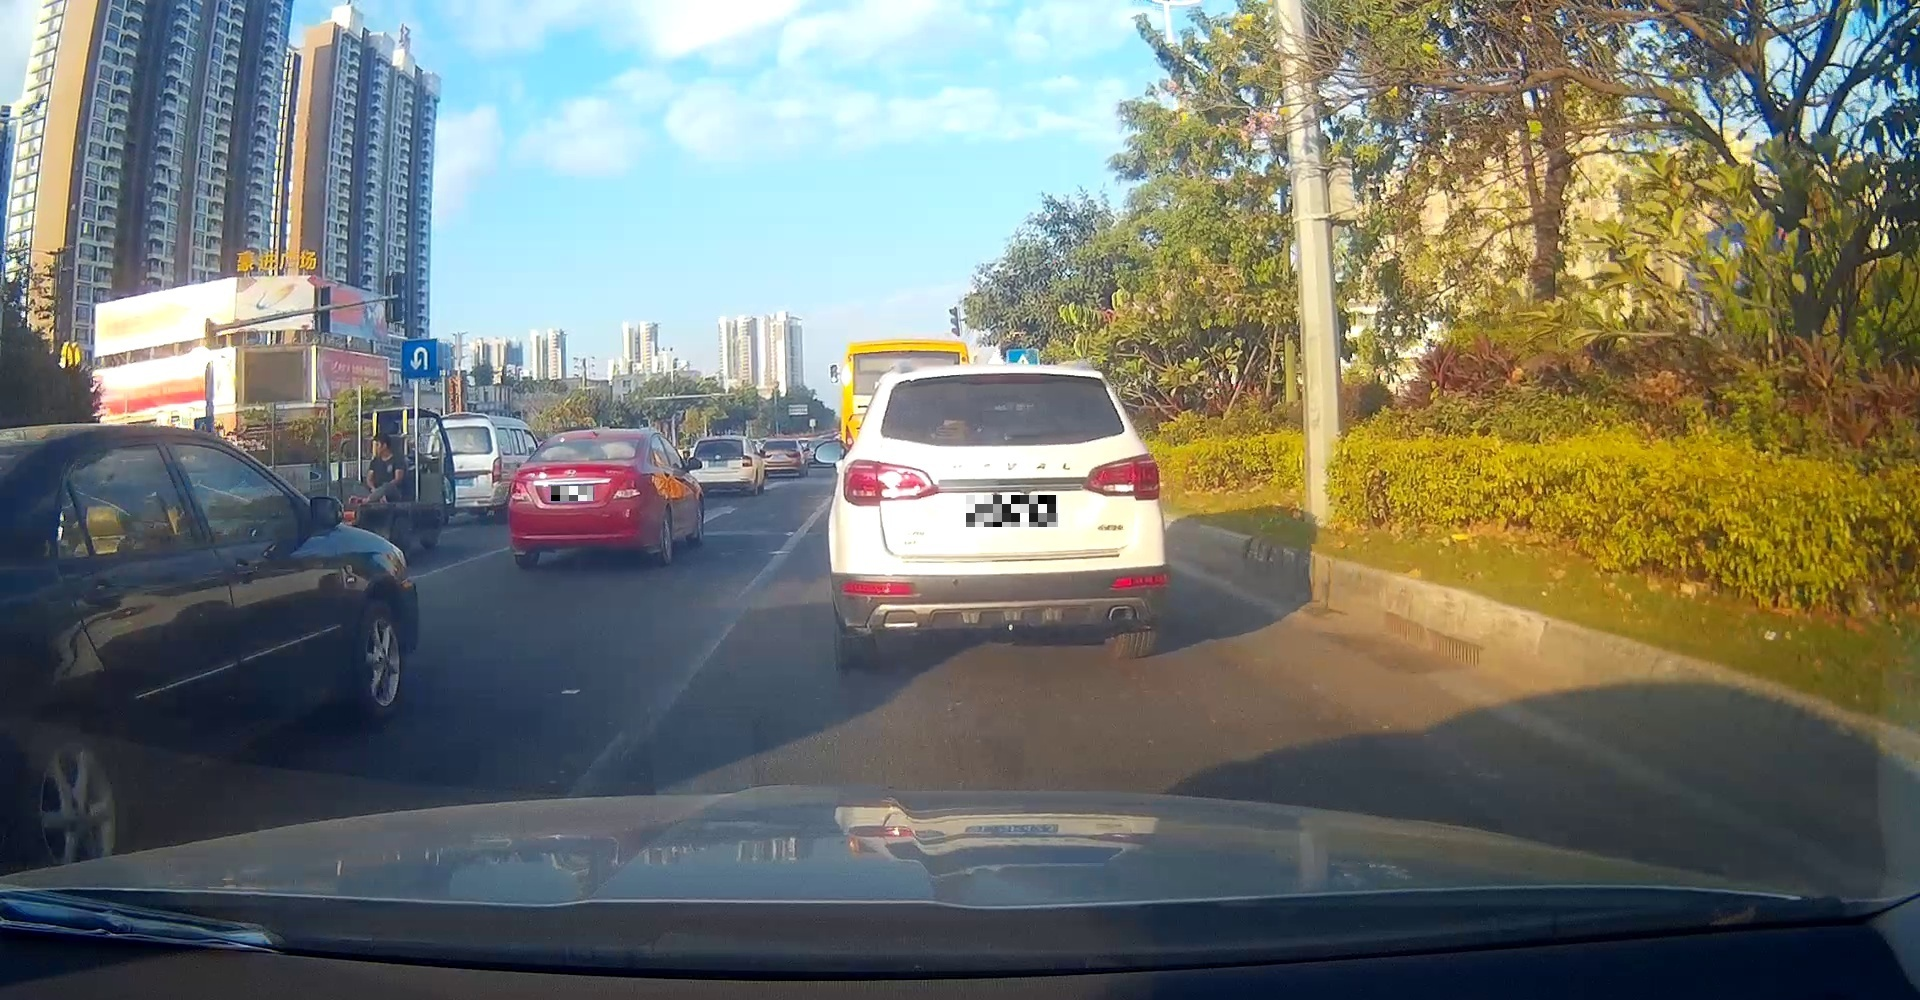L_light: (843, 459, 938, 508), (509, 478, 533, 503)
R_light: (1081, 453, 1161, 500), (610, 473, 651, 500)
T_light: (969, 374, 1044, 385), (571, 457, 590, 461)
day-no: (828, 363, 1170, 673), (507, 429, 655, 567)
plate_1: (551, 486, 593, 501)
plate_2: (966, 495, 1058, 527)
